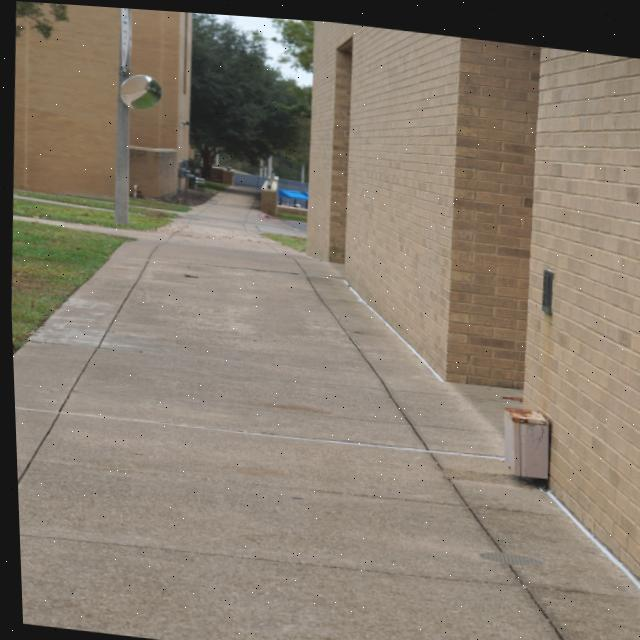Obstacle: (501, 401, 547, 473)
Sidewalk: (10, 190, 640, 640), (11, 214, 149, 235), (12, 193, 110, 212)
